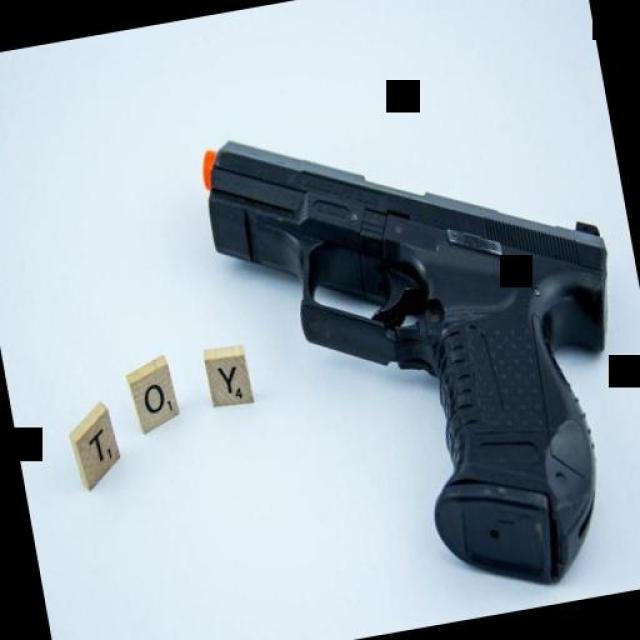gun: (184, 60, 640, 635)
